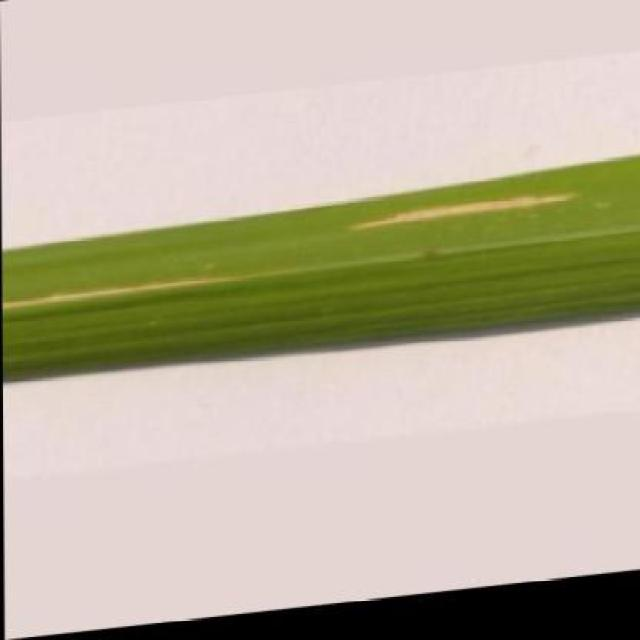Brown_Spot: (0, 163, 640, 394)
